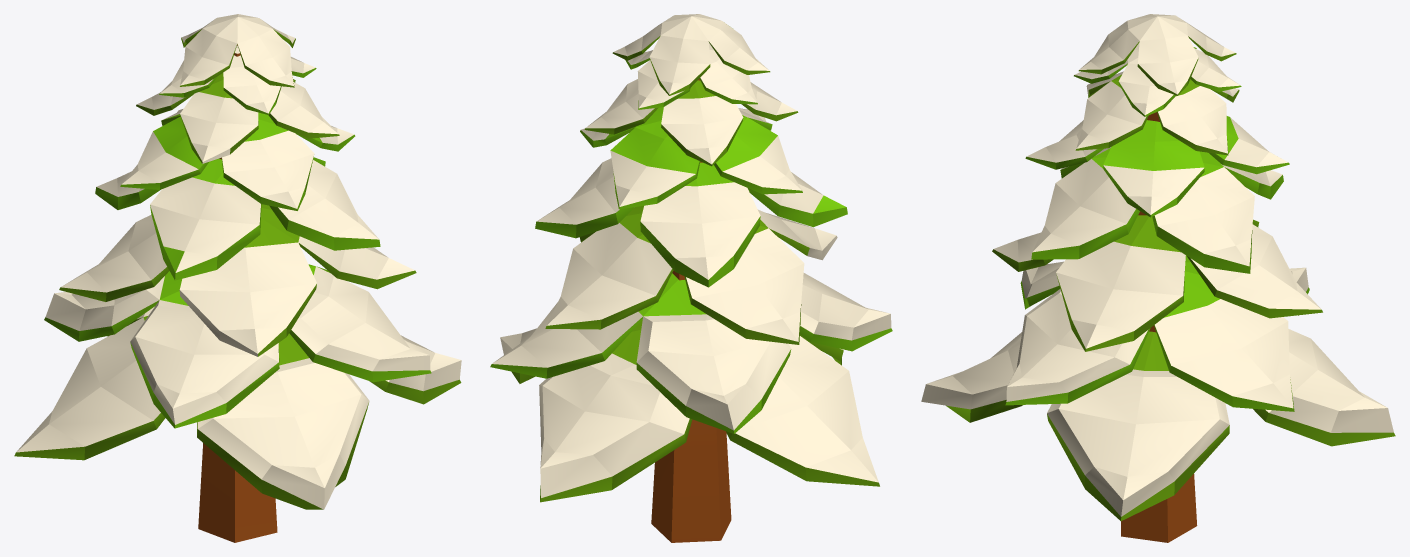
The model's file is Tree_01_Winter.fbx.
3 views of the same model, side by side, from view 1: azimuth 30°, elevation 25°; view 2: azimuth 150°, elevation 25°; view 3: azimuth 270°, elevation 25° (orthographic).
Visible parts, largest first — view 1: Tree_01_p2_Winter, Tree_01_p1_Winter; view 2: Tree_01_p2_Winter, Tree_01_p1_Winter; view 3: Tree_01_p2_Winter, Tree_01_p1_Winter.
Boxes of the visible parts, x1,y1,x2,y2 form: Tree_01_p2_Winter: [14, 14, 461, 509]; Tree_01_p1_Winter: [198, 44, 277, 542]; Tree_01_p2_Winter: [490, 14, 892, 502]; Tree_01_p1_Winter: [651, 79, 731, 542]; Tree_01_p2_Winter: [921, 14, 1395, 520]; Tree_01_p1_Winter: [1121, 112, 1197, 542].
Size of the model in its own units: 306 by 360 by 304.
